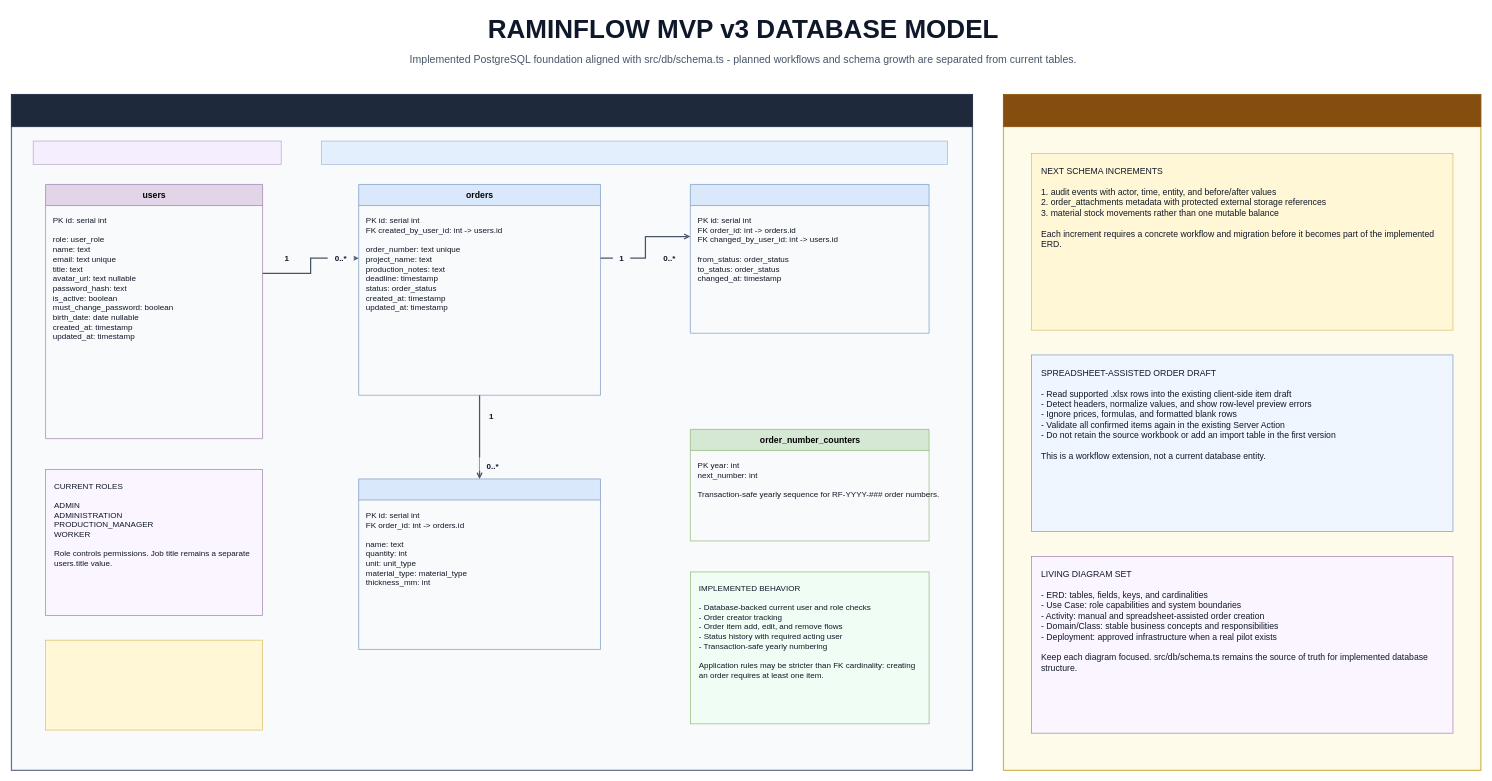
The diagram is 1492 pixels wide and 781 high, and some of its shapes have lost their labels. Each missing label, with the box of its shape:
IDENTITY AND ACCESS: (33, 140, 281, 165)
IMPLEMENTED DATABASE FOUNDATION: (11, 94, 972, 127)
ORDER WORKFLOW: (321, 140, 948, 165)
order_items: (358, 478, 600, 649)
order_status_history: (690, 184, 929, 333)
PLANNED GROWTH - NOT CURRENT TABLES: (1003, 94, 1481, 127)
POSTGRESQL ENUMS user_role order_status material_type unit_type: (45, 640, 263, 730)
